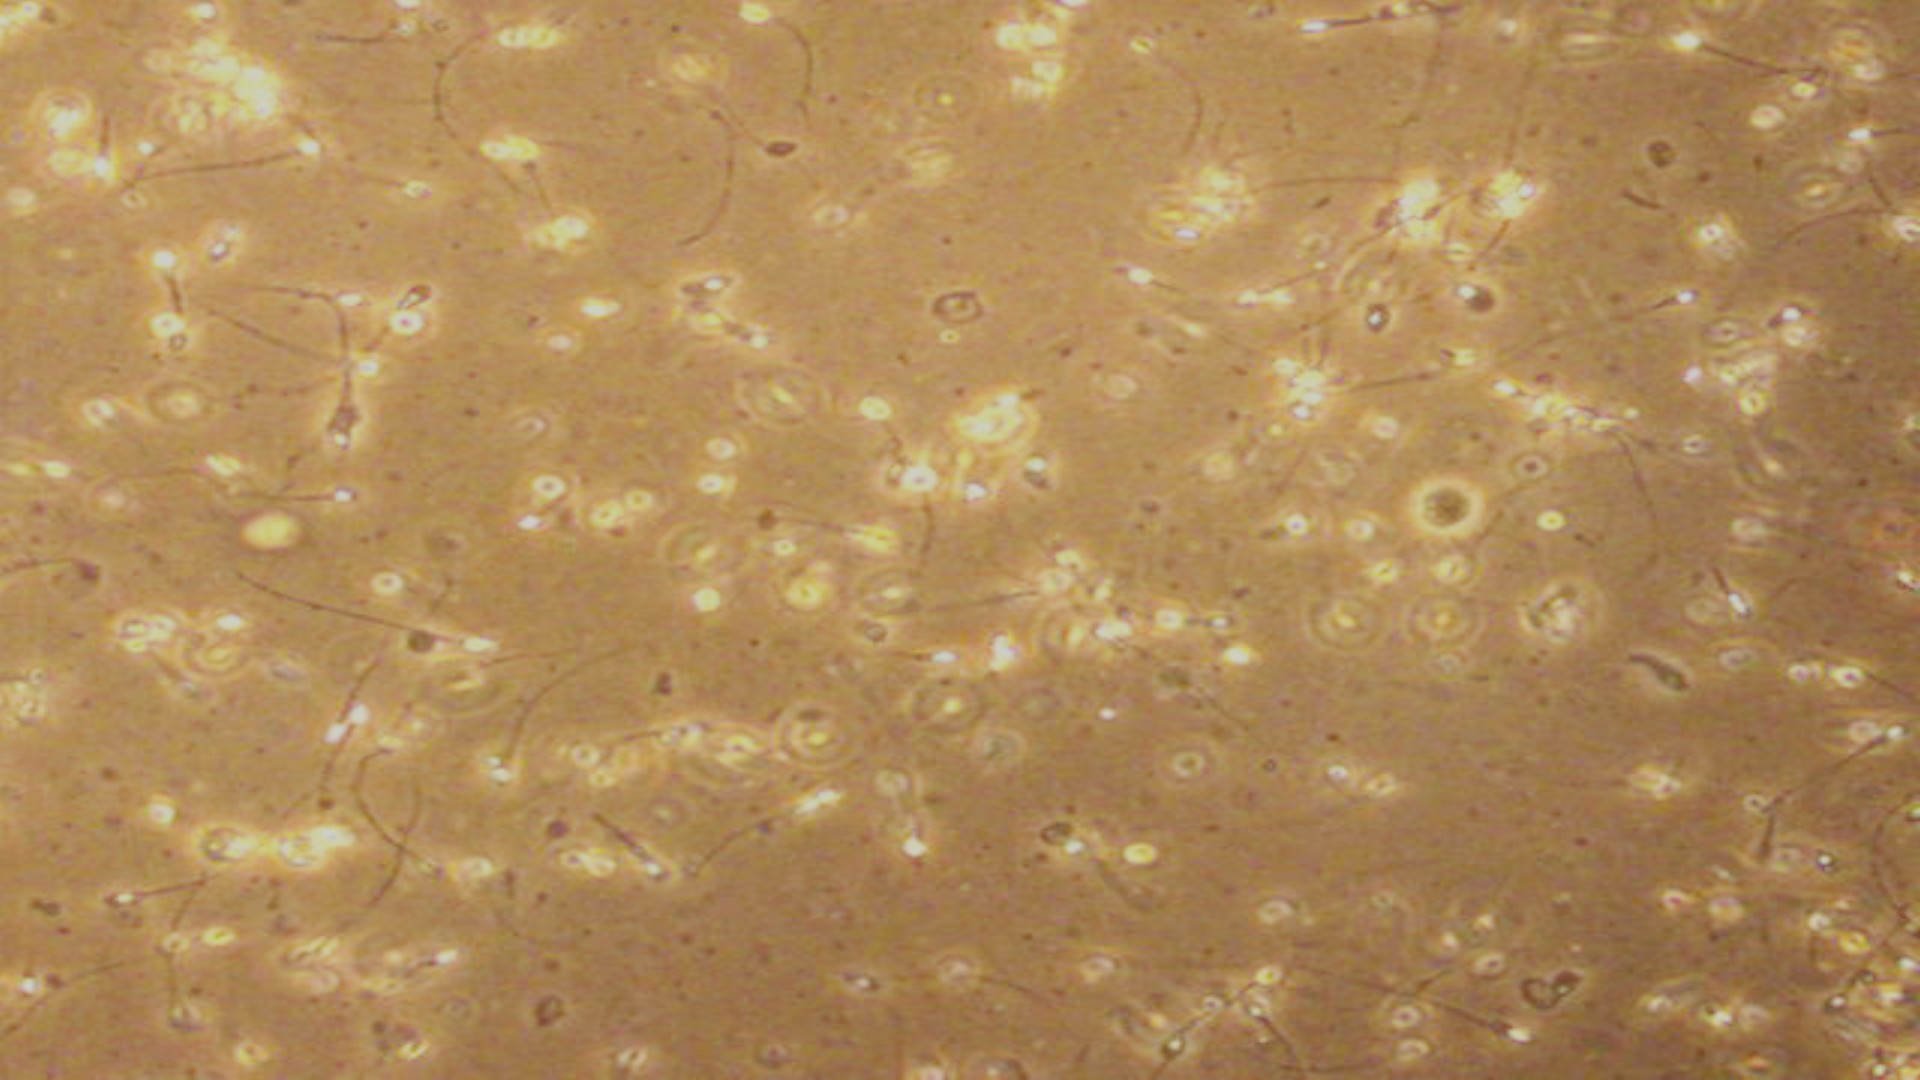sperm: (1365, 968, 1540, 1048), (299, 585, 484, 659), (1658, 524, 1764, 626), (215, 468, 371, 527), (1577, 284, 1712, 327), (320, 152, 434, 202), (880, 636, 961, 682), (195, 136, 318, 161), (315, 680, 349, 754)
